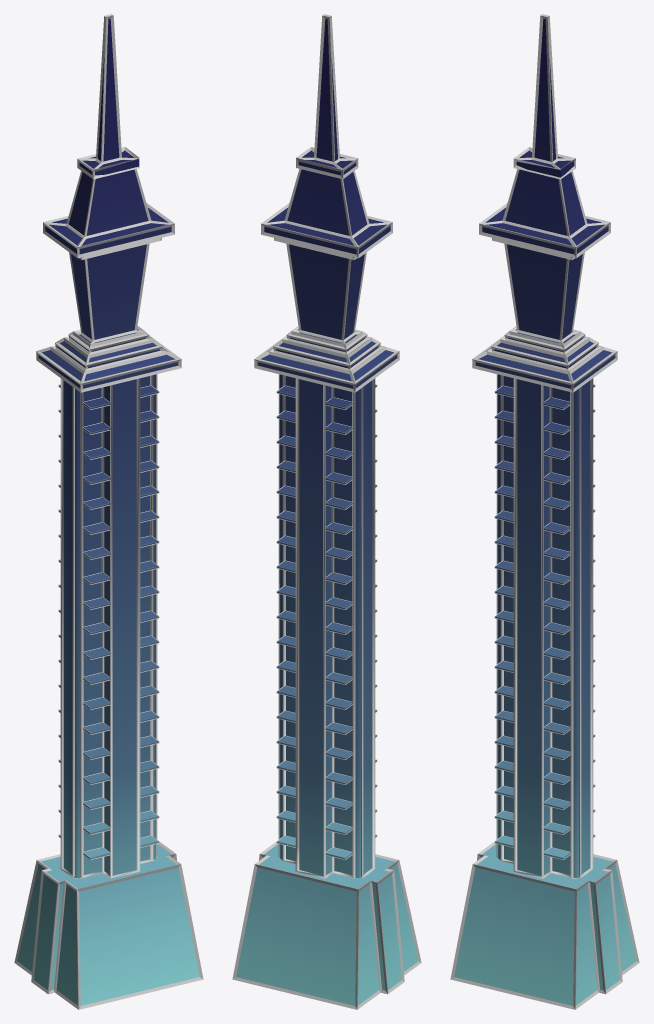
The model's file is tower.fbx.
3 views of the same model, side by side, from view 1: azimuth 30°, elevation 25°; view 2: azimuth 150°, elevation 25°; view 3: azimuth 330°, elevation 25° (orthographic).
Visible parts, largest first — view 1: TowerGradient, TowerGrid, TowerBalconyGrid; view 2: TowerGradient, TowerGrid, TowerBalconyGrid; view 3: TowerGradient, TowerGrid, TowerBalconyGrid.
Boxes of the visible parts, x1,y1,x2,y2 form: TowerGradient: (17, 18, 199, 1005); TowerGrid: (14, 14, 203, 1009); TowerBalconyGrid: (58, 384, 159, 859); TowerGradient: (236, 18, 418, 1005); TowerGrid: (232, 14, 421, 1009); TowerBalconyGrid: (276, 384, 377, 859); TowerGradient: (454, 18, 636, 1005); TowerGrid: (450, 14, 639, 1009); TowerBalconyGrid: (494, 384, 595, 859).
Bounding box in the file's own units: 2030 × 13379 × 1631.
